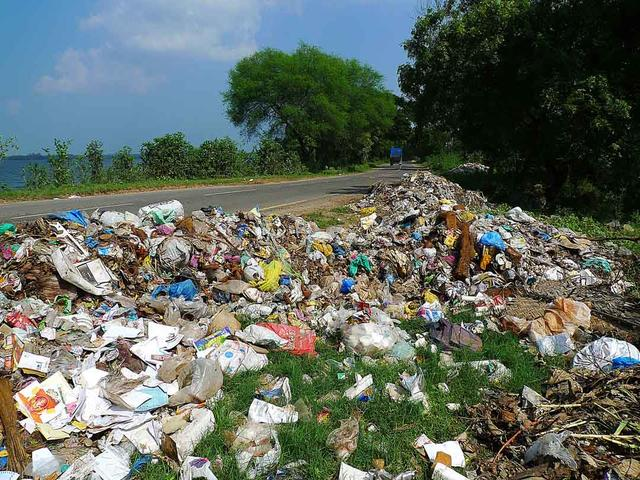garbage: (5, 227, 200, 442), (211, 227, 605, 330), (486, 402, 634, 465), (378, 177, 469, 238)
